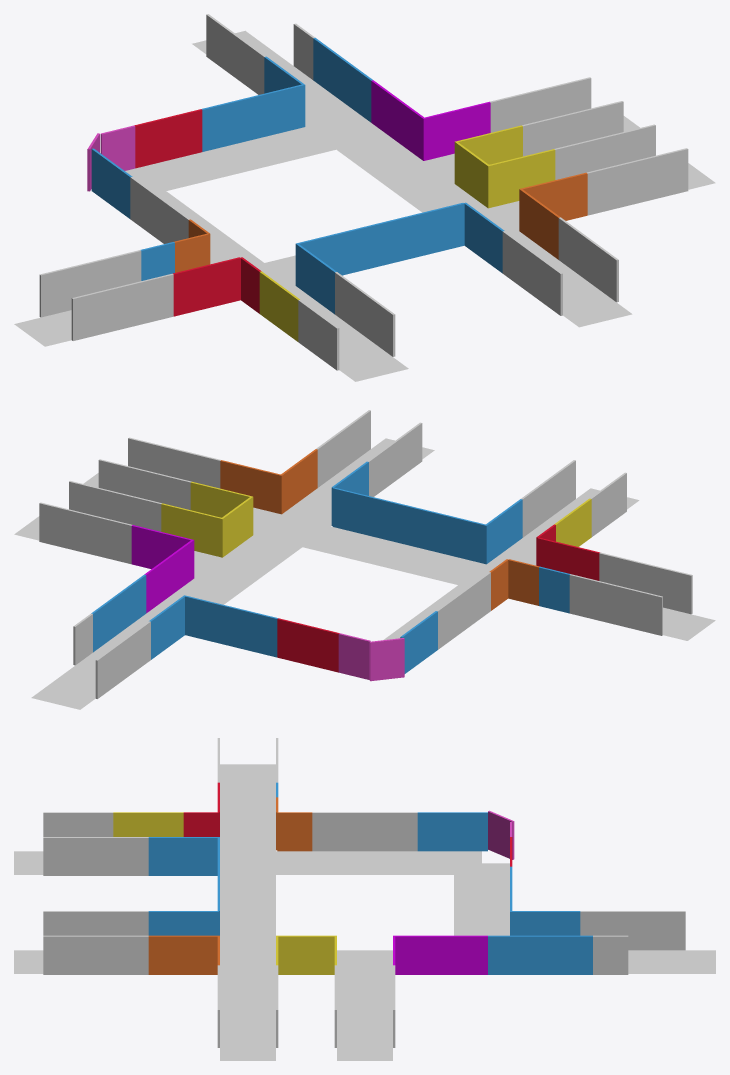
Rendered from map.glb.
The picture shows the model from 3 angles, top to bottom: view 1: azimuth 30°, elevation 25°; view 2: azimuth 150°, elevation 25°; view 3: azimuth 270°, elevation 25°; orthographic projection. The views are drawn at different scales.
Parts seen in each view (by area): view 1: road-1.002, road-1.003, road-1.008, road-1.005, road-1.007, road-1, building-1.052, building-1.057, building-1.021, building-1.049, building-1.050, building-1.011 (+74 smaller); view 2: road-1.001, road-1.003, road-1.007, road-1.008, road-1.005, building-1.075, road-1.009, building-1.011, building-1.052, building-1.073, building-1.047, building-1.057 (+76 smaller); view 3: road-1.004, road-1, road-1.001, road-1.006, road-1.009, road-1.002, building-1.011, road-1.008, road-1.003, building-1, building-1.023, building-1.072 (+38 smaller).
Part boxes in pixels (x1,y1,x2,y2): road-1.002: (125,120,362,193); road-1.003: (321,125,487,212); road-1.008: (192,30,373,137); road-1.005: (270,274,408,381); road-1.007: (509,231,632,327); road-1: (142,180,279,276); building-1.052: (71,290,106,340); building-1.057: (39,266,74,317); building-1.021: (653,148,688,198); building-1.049: (173,265,207,316); building-1.050: (106,282,140,332); building-1.011: (454,141,488,207); road-1.001: (278,520,491,584); road-1.003: (149,525,316,613); road-1.007: (268,438,434,536); road-1.008: (31,611,158,709); road-1.005: (472,488,639,576); building-1.075: (369,638,404,681); road-1.009: (14,516,246,583); building-1.011: (220,497,252,557); building-1.052: (660,567,692,614); building-1.073: (338,633,370,679); building-1.047: (456,517,487,564); building-1.057: (631,589,662,635); road-1.004: (220,764,275,863); road-1: (248,851,481,874); road-1.001: (220,863,275,961); road-1.006: (220,962,275,1060); road-1.009: (337,974,392,1060); road-1.002: (454,863,509,935); building-1.011: (277,935,336,974); road-1.008: (628,950,715,973); road-1.003: (248,950,392,973); building-1: (347,812,382,851); building-1.023: (113,935,148,974); building-1.072: (650,911,685,950).
Size of the model in its own units: 300 by 18 by 300.
